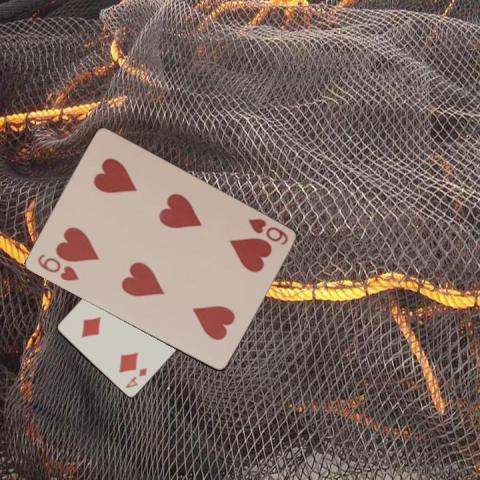4d: (122, 365, 149, 390)
6h: (34, 250, 80, 282), (245, 216, 289, 248)
